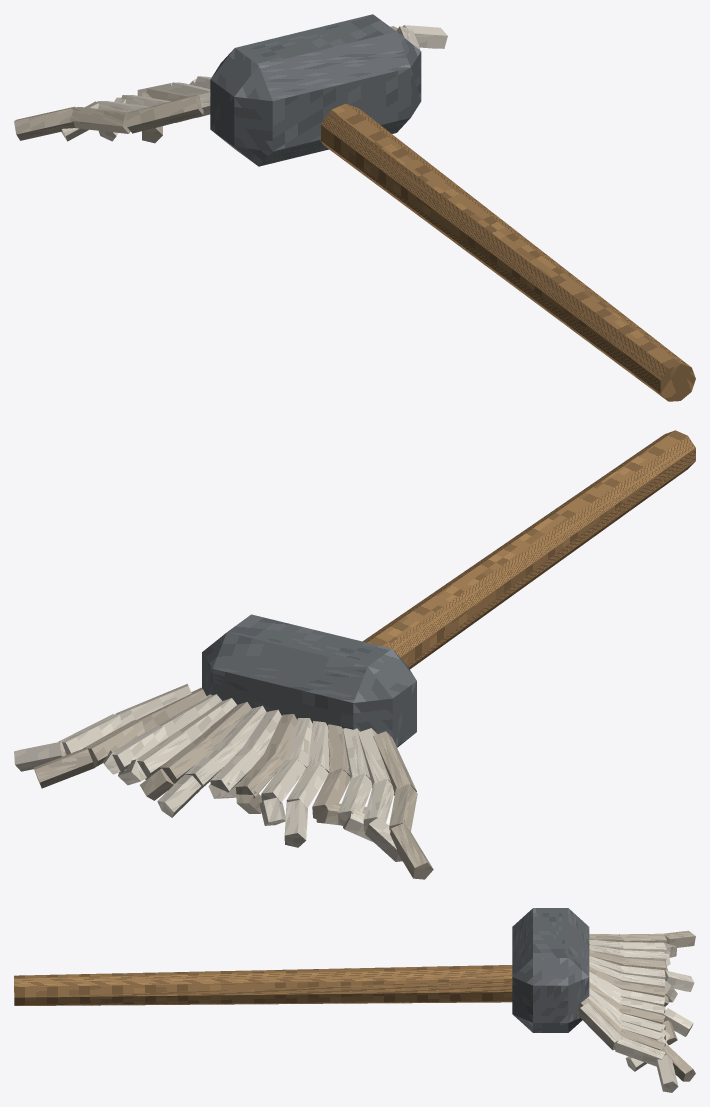
The model's file is mop.glb.
3 renders of one model, top to bottom at view 1: azimuth 30°, elevation 25°; view 2: azimuth 150°, elevation 25°; view 3: azimuth 270°, elevation 25°, orthographic. The views are drawn at different scales.
Visible parts, largest first — view 1: block_mop yarn collar, block_handle, block_loose mop strand 2 (×2), block_loose mop strand 0, block_loose mop strand 1; view 2: block_mop yarn collar, block_handle, block_loose mop strand 1 (×14), block_loose mop strand 0 (×14), block_loose mop strand 2 (×6); view 3: block_handle, block_mop yarn collar, block_loose mop strand 1 (×14), block_loose mop strand 2 (×5), block_loose mop strand 0.
Boxes of the visible parts, x1,y1,x2,y2 form: block_mop yarn collar: [210, 14, 421, 166]; block_handle: [320, 103, 695, 401]; block_loose mop strand 2 (×2): [14, 25, 447, 140]; block_loose mop strand 0: [125, 94, 203, 133]; block_loose mop strand 1: [70, 107, 130, 133]; block_mop yarn collar: [202, 614, 416, 747]; block_handle: [362, 430, 695, 669]; block_loose mop strand 1 (×14): [58, 714, 417, 831]; block_loose mop strand 0 (×14): [115, 684, 416, 795]; block_loose mop strand 2 (×6): [14, 741, 433, 879]; block_handle: [14, 965, 512, 1005]; block_mop yarn collar: [512, 908, 589, 1032]; block_loose mop strand 1 (×14): [615, 933, 666, 1066]; block_loose mop strand 2 (×5): [657, 930, 695, 1092]; block_loose mop strand 0: [578, 1003, 622, 1050].
Size of the model in its own units: 0.6834 by 0.184 by 1.3.
1 material, 1 textured.
